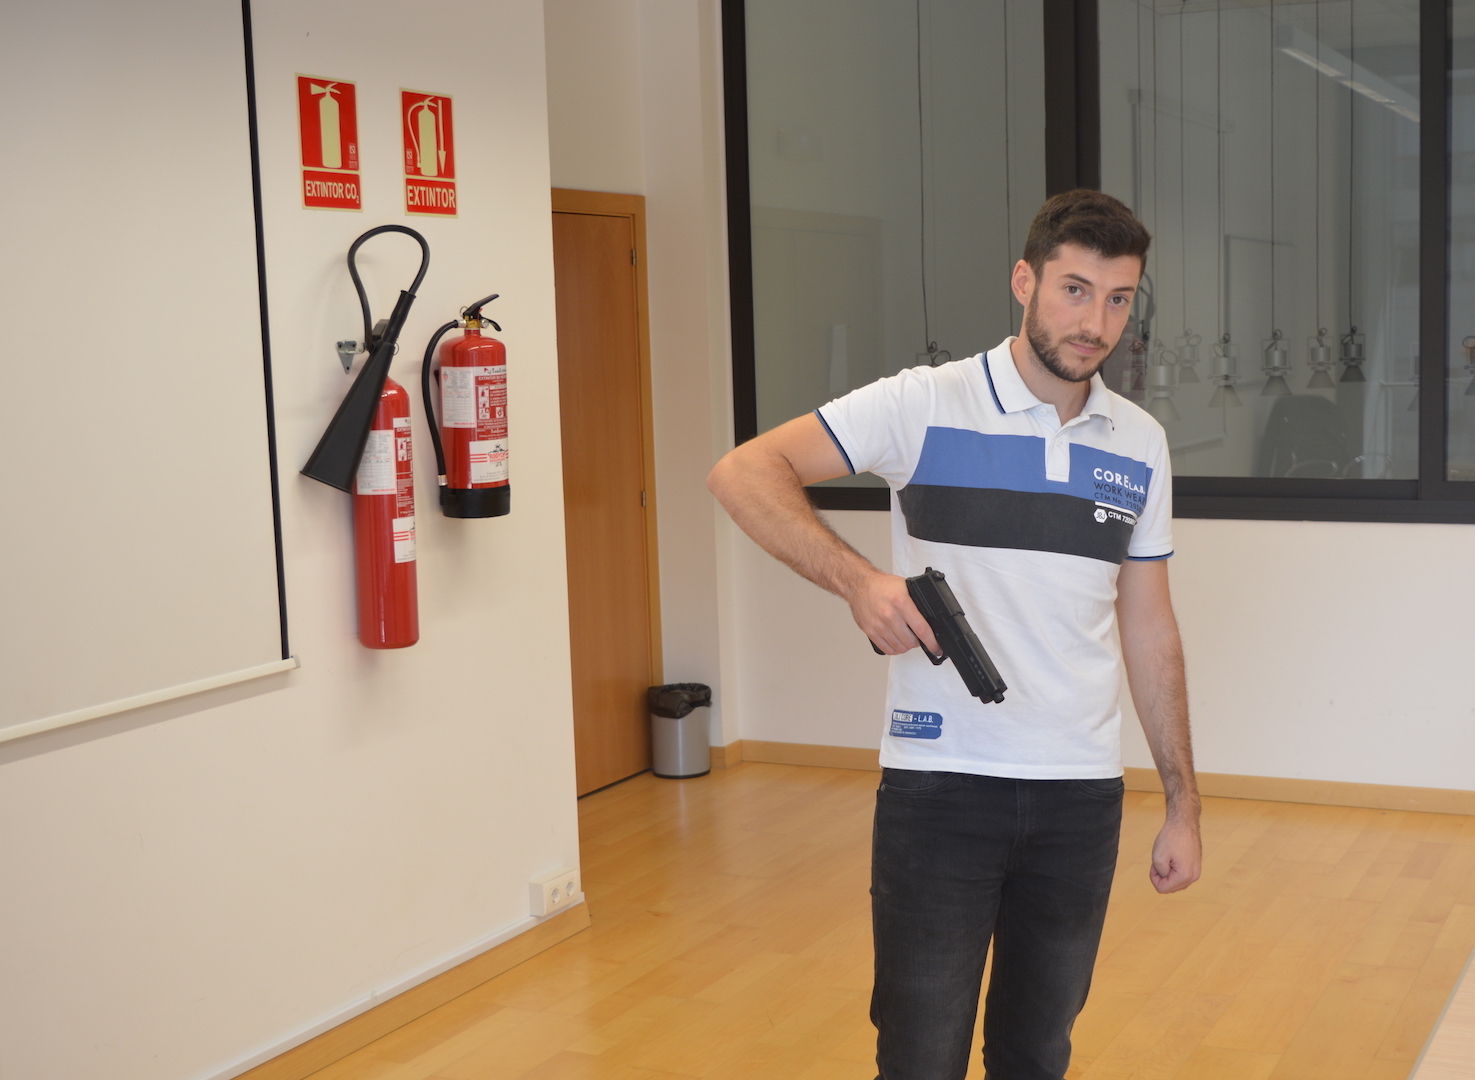pistol: (867, 567, 1008, 705)
